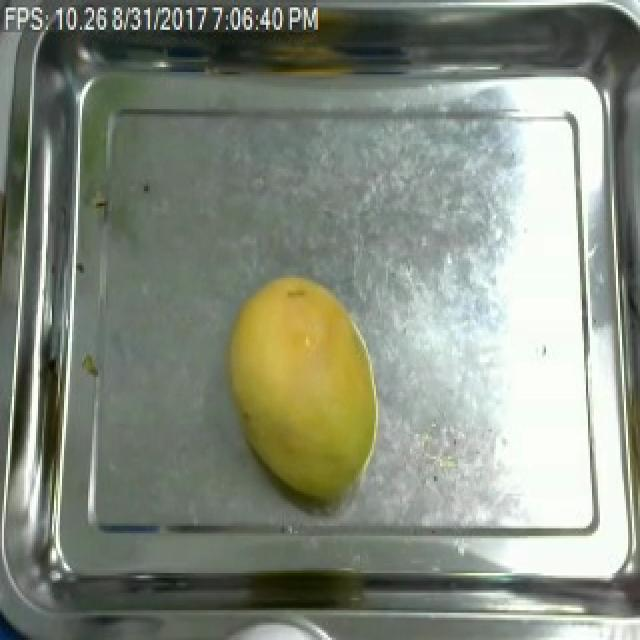fruit: (212, 268, 390, 518)
